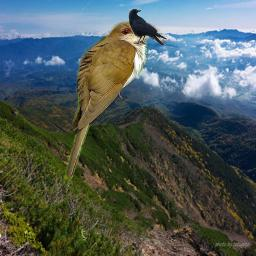Crow: (128, 7, 167, 46)
Cuckoo: (62, 21, 151, 186)
